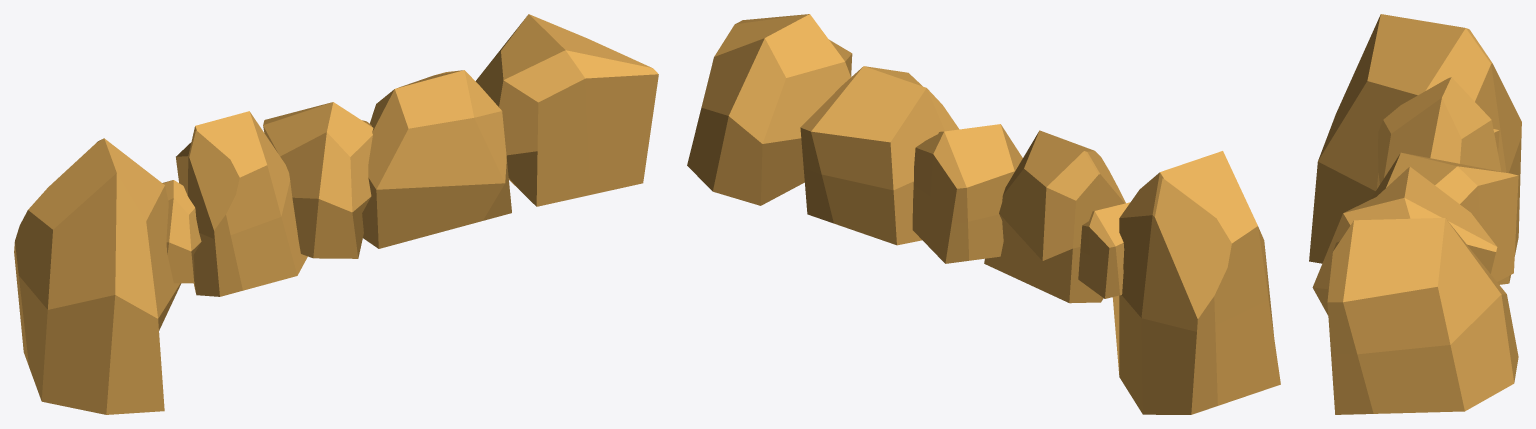
3 views of the same model, side by side, from view 1: azimuth 30°, elevation 25°; view 2: azimuth 150°, elevation 25°; view 3: azimuth 270°, elevation 25° (orthographic). The views are drawn at different scales.
Parts seen in each view (by area): view 1: 立方体.002, 立方体.035, 立方体.036, 立方体.038, 立方体.037, 立方体.039; view 2: 立方体.002, 立方体.035, 立方体.036, 立方体.038, 立方体.037, 立方体.039; view 3: 立方体.035, 立方体.002, 立方体.038, 立方体.037, 立方体.036.
Boxes of the visible parts, bbox=[...] form: 立方体.002: bbox=[14, 138, 181, 414]; 立方体.035: bbox=[475, 14, 658, 206]; 立方体.036: bbox=[362, 70, 511, 248]; 立方体.038: bbox=[176, 111, 307, 296]; 立方体.037: bbox=[263, 102, 373, 258]; 立方体.039: bbox=[162, 180, 201, 283]; 立方体.002: bbox=[1112, 151, 1280, 414]; 立方体.035: bbox=[687, 14, 852, 205]; 立方体.036: bbox=[800, 66, 959, 245]; 立方体.038: bbox=[984, 130, 1125, 303]; 立方体.037: bbox=[912, 124, 1022, 263]; 立方体.039: bbox=[1078, 202, 1130, 298]; 立方体.035: bbox=[1327, 218, 1518, 414]; 立方体.002: bbox=[1309, 14, 1521, 284]; 立方体.038: bbox=[1376, 77, 1501, 189]; 立方体.037: bbox=[1370, 152, 1518, 281]; 立方体.036: bbox=[1312, 166, 1497, 315].
Bounding box in the file's own units: 283 × 122 × 81.14.
